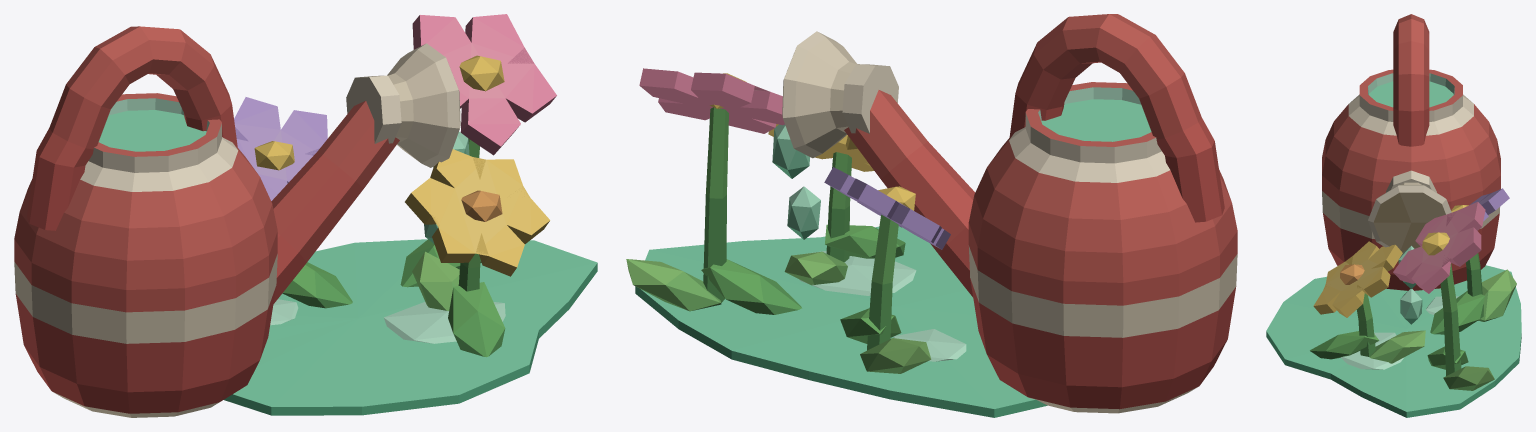
Rendered from decor_watering_can.fbx.
The picture shows the model from 3 angles, left to right: view 1: azimuth 30°, elevation 25°; view 2: azimuth 150°, elevation 25°; view 3: azimuth 270°, elevation 25°; orthographic projection. The views are drawn at different scales.
Parts seen in each view (by area): view 1: decor_watering_can; view 2: decor_watering_can; view 3: decor_watering_can.
Boxes of the visible parts, x1,y1,x2,y2 form: decor_watering_can: [14, 14, 597, 417]; decor_watering_can: [626, 14, 1237, 417]; decor_watering_can: [1266, 14, 1521, 417].
Bounding box in the file's own units: 4.79 × 2.92 × 2.7.
